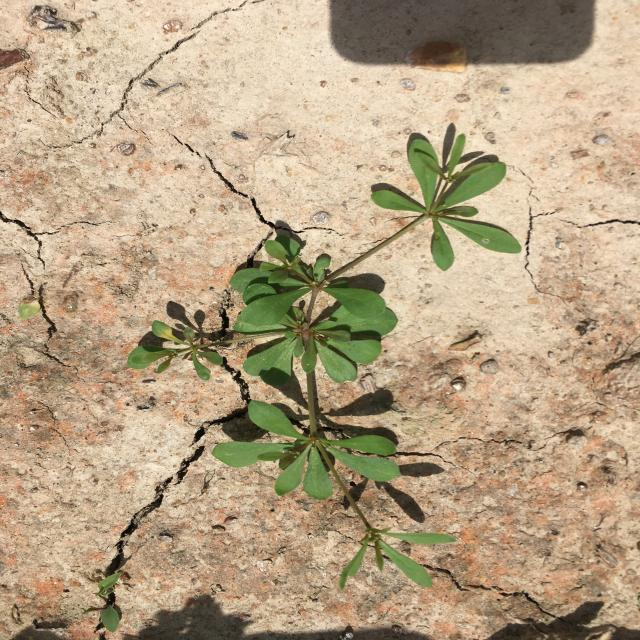Carpetweed: (127, 134, 523, 591)
